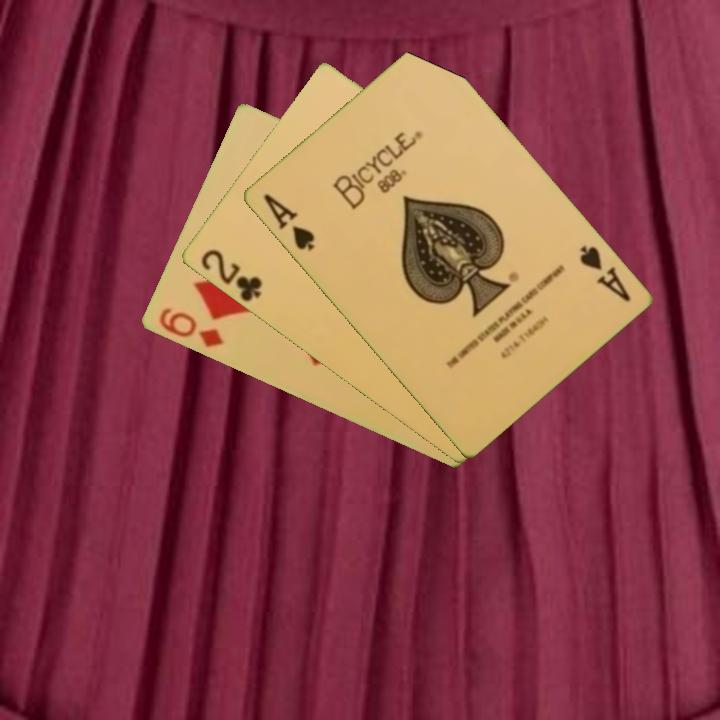2c: (196, 246, 265, 305)
6d: (154, 304, 227, 351)
As: (259, 190, 317, 254), (575, 242, 633, 305)
